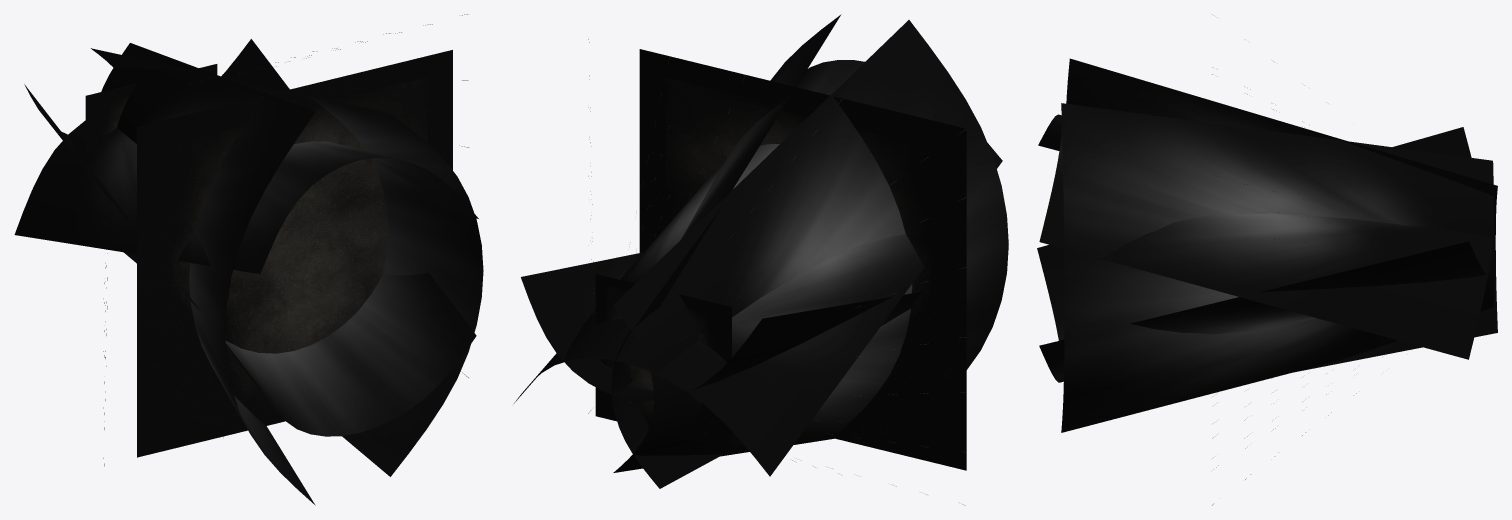
The model's file is DustGoTrhu.dae.
3 views of the same model, side by side, from view 1: azimuth 30°, elevation 25°; view 2: azimuth 150°, elevation 25°; view 3: azimuth 270°, elevation 25° (orthographic). The views are drawn at different scales.
Visible parts, largest first — view 1: Gothru5, Gothru3, Gothru2, Gothru4, Gothru1, Gothru; view 2: Gothru2, Gothru5, Gothru4, Gothru3, Gothru1, Gothru; view 3: Gothru1, Gothru4, Gothru3, Gothru2.
Boxes of the visible parts, x1,y1,x2,y2 form: Gothru5: (137,50,452,457); Gothru3: (24,39,476,436); Gothru2: (101,43,315,505); Gothru4: (14,120,478,273); Gothru1: (91,48,483,476); Gothru: (85,64,217,153); Gothru2: (613,20,1008,472); Gothru5: (639,49,966,470); Gothru4: (514,60,1002,476); Gothru3: (521,252,921,400); Gothru1: (611,14,841,488); Gothru: (595,274,731,449); Gothru1: (1061,103,1494,432); Gothru4: (1038,114,1492,359); Gothru3: (1037,127,1491,382); Gothru2: (1066,58,1497,372).
Bounding box in the file's own units: 11.59 × 11.95 × 13.97.
4 materials, 3 textured.
